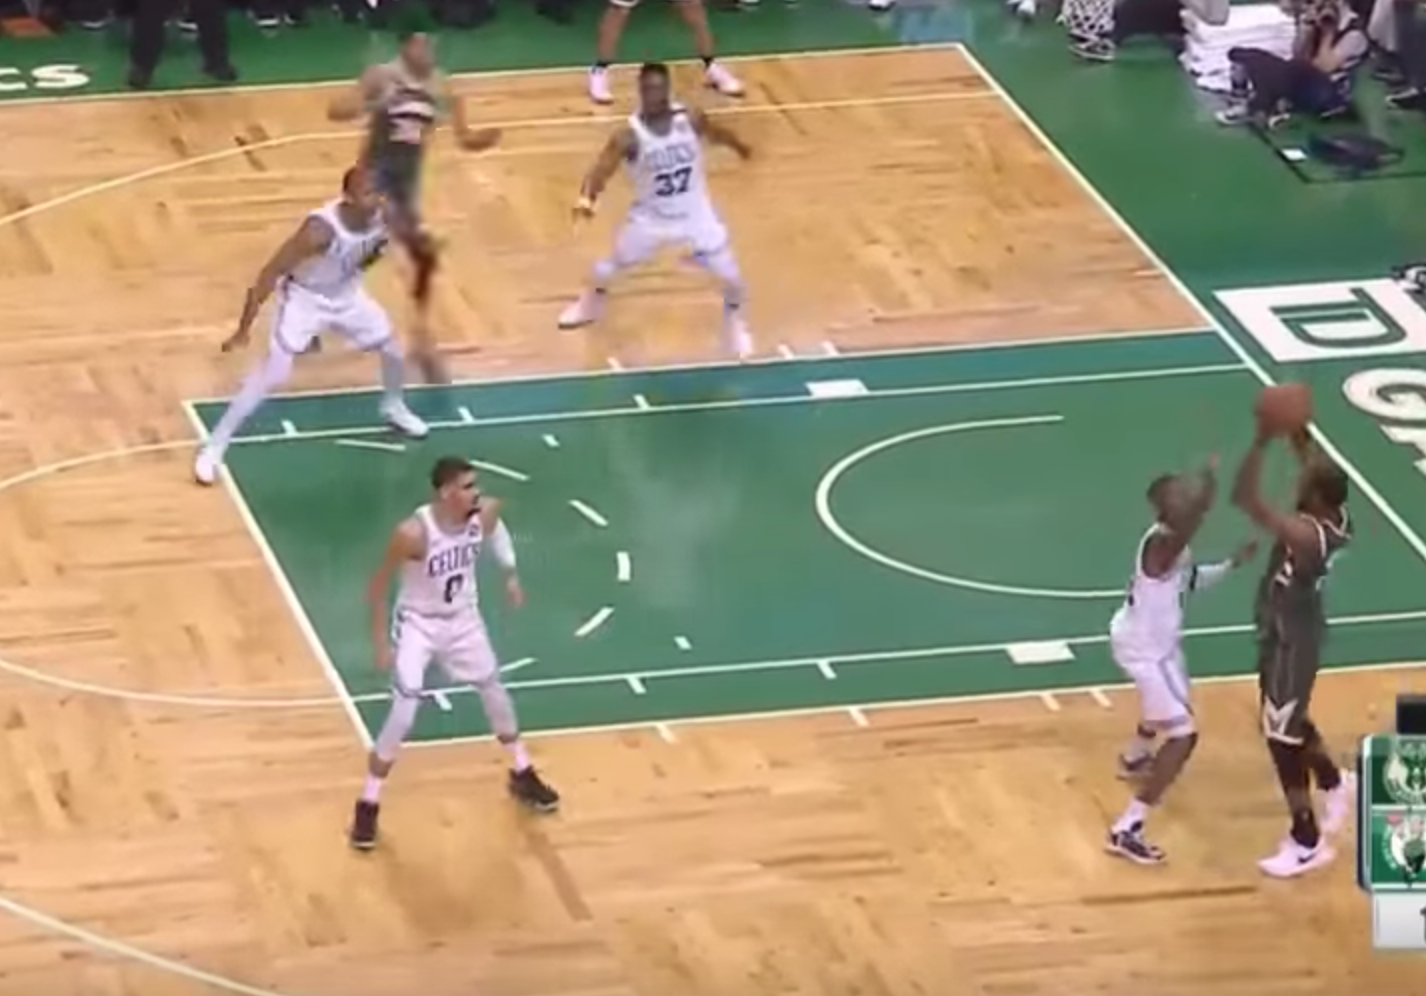basketball: (1246, 380, 1324, 439)
basketball player: (316, 452, 577, 861), (564, 65, 777, 370), (223, 173, 421, 450), (1243, 453, 1365, 880), (1107, 461, 1212, 892), (338, 27, 499, 167)
